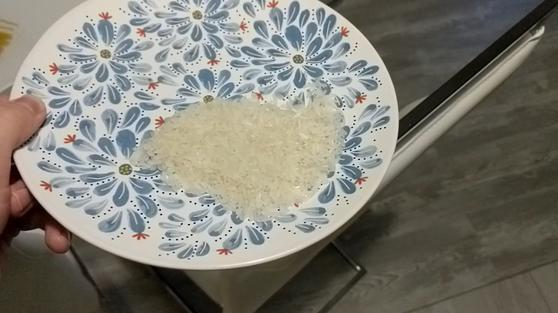rice: (128, 86, 356, 233)
